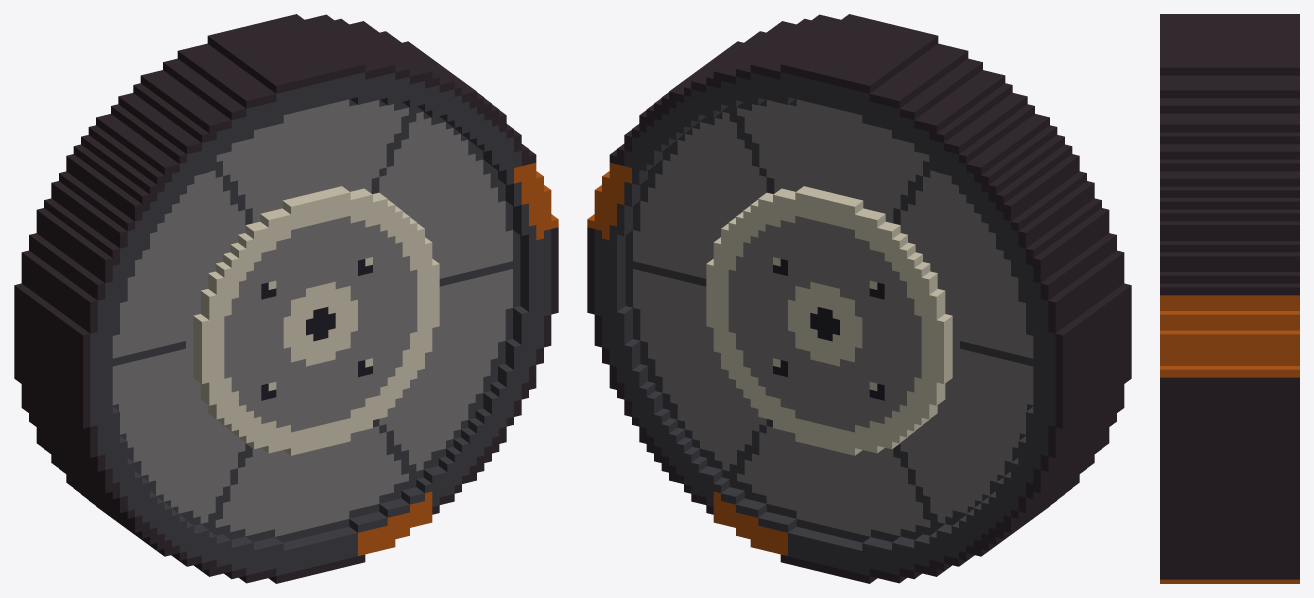
The model's file is cart_wheel.glb.
The picture shows the model from 3 angles, left to right: view 1: azimuth 30°, elevation 25°; view 2: azimuth 150°, elevation 25°; view 3: azimuth 270°, elevation 25°; orthographic projection.
Visible parts, largest first — view 1: Untitled; view 2: Untitled; view 3: Untitled.
Part boxes in pixels (box(x1,y1,x2,y2)): Untitled: box(14, 14, 558, 583); Untitled: box(587, 14, 1131, 583); Untitled: box(1160, 14, 1299, 583).
Size of the model in its own units: 6.4 by 6.4 by 1.6.
1 material, 1 textured.
